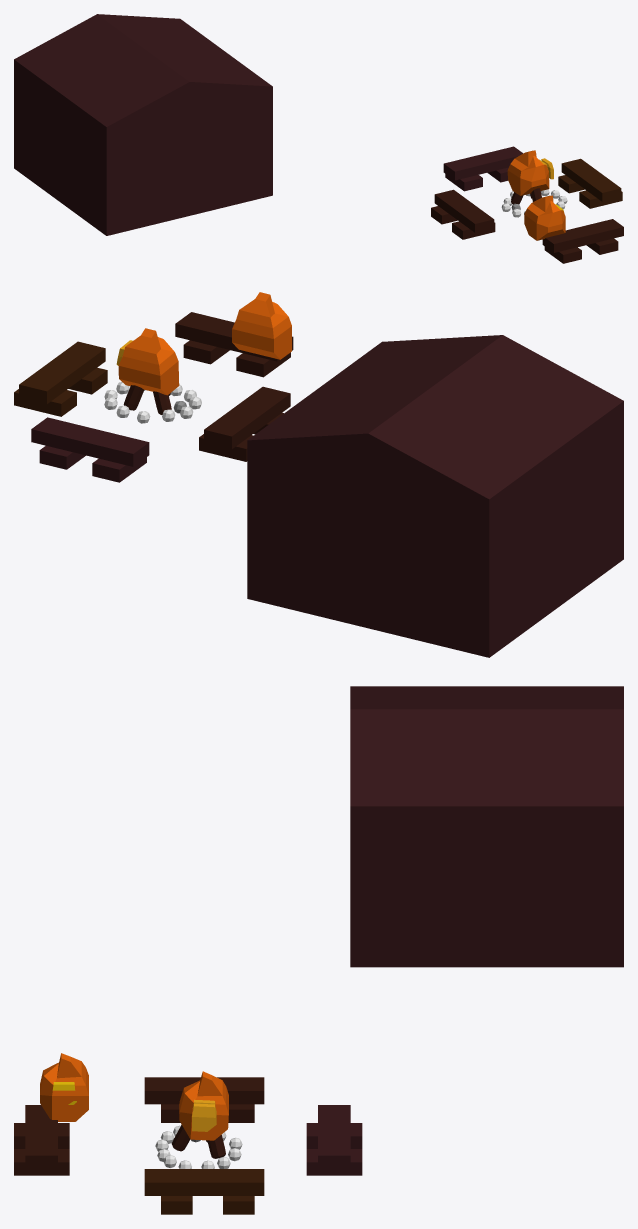
Rendered from lowpolly.chata.all.glb.
The picture shows the model from 3 angles, top to bottom: view 1: azimuth 30°, elevation 25°; view 2: azimuth 150°, elevation 25°; view 3: azimuth 270°, elevation 25°; orthographic projection. The views are drawn at different scales.
Parts seen in each view (by area): view 1: Cube.001, Cube.018, Cube.020, Cube.017, Cube.019, OHYNEK.001, Cube.004; view 2: Cube.001, Cube.019, Cube.020, Cube.017, Cube.018, Cube.004, OHYNEK.001; view 3: Cube.001, Cube.020, Cube.019, Cube.018, Cube.017, Cube.004, OHYNEK.001.
Part boxes in pixels (x1,y1,x2,y2): Cube.001: (14, 14, 272, 235); Cube.018: (542, 219, 623, 263); Cube.020: (558, 158, 622, 208); Cube.017: (431, 189, 495, 239); Cube.019: (443, 146, 522, 191); OHYNEK.001: (507, 150, 549, 195); Cube.004: (524, 195, 565, 240); Cube.001: (247, 335, 623, 657); Cube.019: (31, 417, 149, 482); Cube.020: (14, 341, 107, 416); Cube.017: (199, 386, 290, 461); Cube.018: (175, 312, 293, 377); Cube.004: (232, 292, 291, 359); OHYNEK.001: (118, 328, 179, 395); Cube.001: (350, 686, 623, 967); Cube.020: (144, 1169, 264, 1214); Cube.019: (306, 1105, 362, 1175); Cube.018: (14, 1105, 69, 1175); Cube.017: (144, 1077, 264, 1122); Cube.004: (40, 1053, 88, 1121); OHYNEK.001: (179, 1071, 228, 1140).
Bounding box in the file's own units: 47.11 × 16.15 × 37.28.
